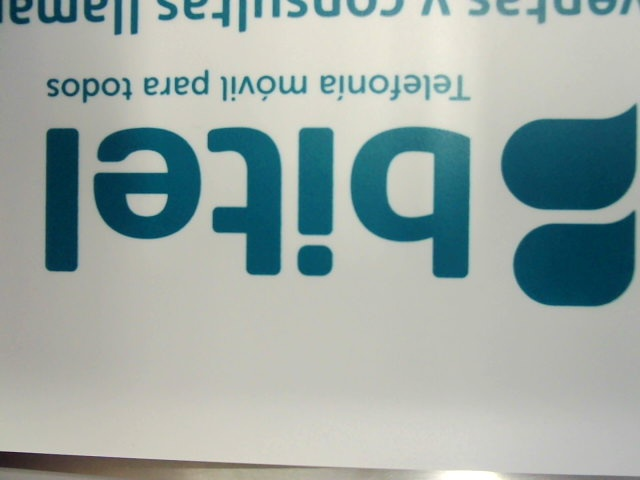BE_bitel: (26, 101, 638, 313)
